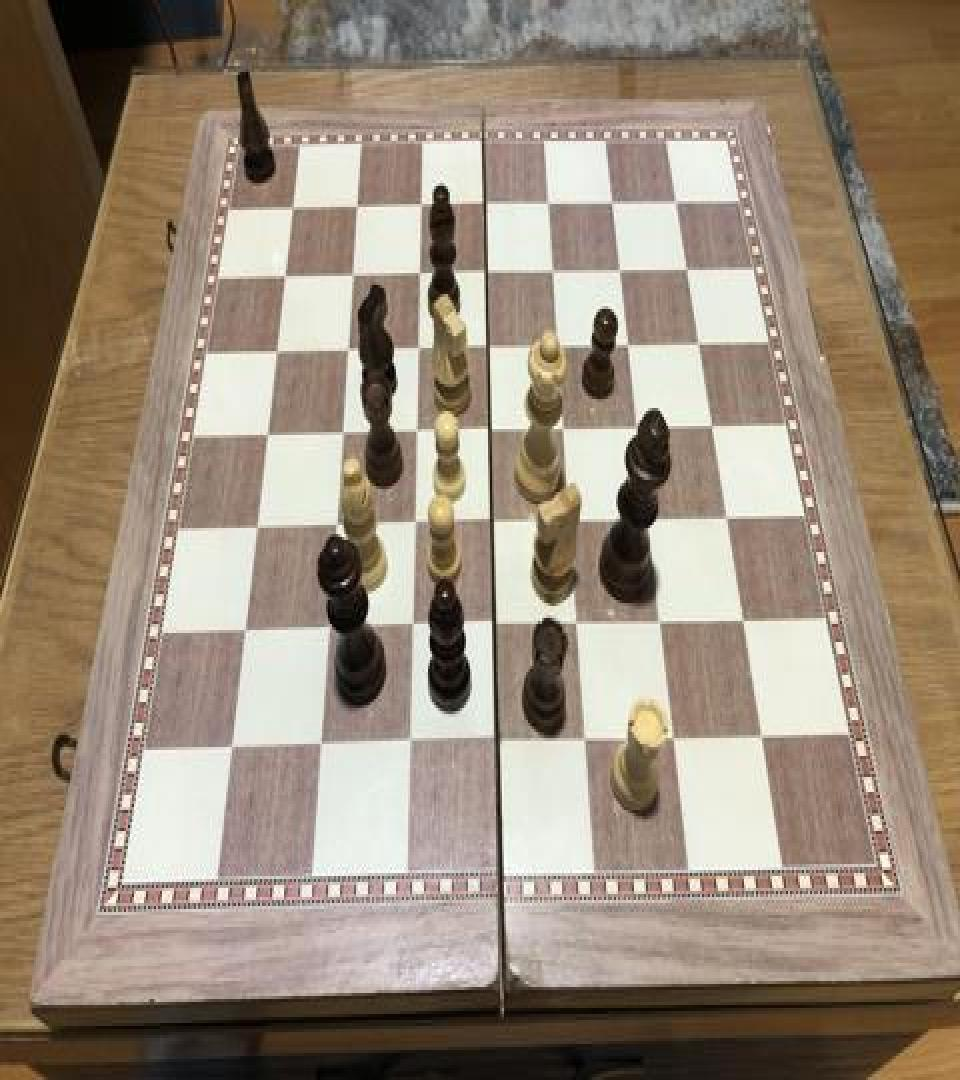xcorner: (648, 601, 672, 638), (661, 718, 685, 755), (664, 180, 688, 216), (600, 183, 624, 219), (537, 184, 561, 220), (473, 186, 497, 222), (346, 189, 370, 225), (283, 190, 307, 226), (675, 248, 699, 284), (608, 250, 632, 286), (541, 252, 565, 288), (474, 254, 498, 290), (408, 255, 432, 291), (341, 256, 365, 292), (275, 258, 299, 294), (687, 322, 711, 358), (616, 324, 640, 360), (546, 326, 570, 362), (476, 327, 500, 363), (406, 330, 430, 366), (336, 332, 360, 368), (266, 333, 290, 369), (700, 405, 724, 441), (626, 406, 650, 442), (551, 408, 575, 444), (477, 411, 501, 447), (330, 414, 354, 450), (256, 416, 280, 452), (714, 496, 738, 532), (636, 500, 660, 536), (557, 501, 581, 537), (479, 502, 503, 538), (401, 504, 425, 540), (323, 506, 347, 542), (245, 508, 269, 544), (731, 600, 755, 636), (564, 604, 588, 640), (481, 606, 505, 642), (398, 608, 422, 644), (315, 609, 339, 645), (233, 612, 257, 648), (750, 717, 774, 753), (572, 722, 596, 758), (483, 723, 507, 759), (395, 724, 419, 760), (307, 726, 331, 762), (219, 729, 243, 765), (409, 188, 433, 223), (403, 413, 427, 448)
